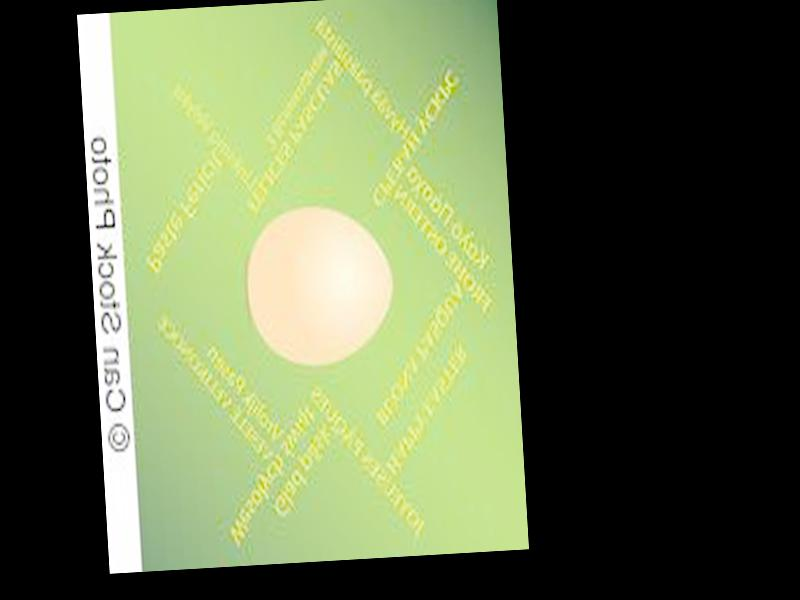Eggs: (243, 205, 396, 368)
